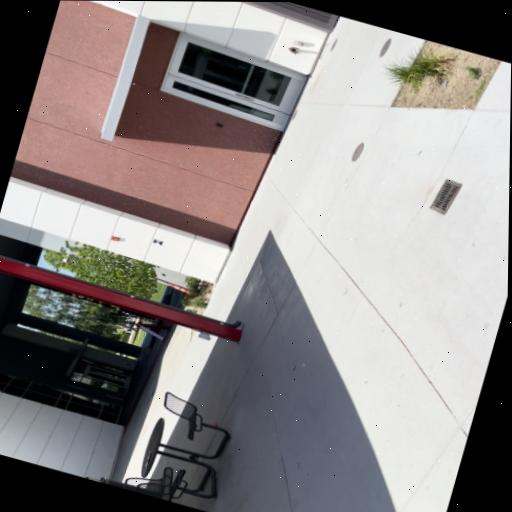target2: (152, 238, 163, 246)
